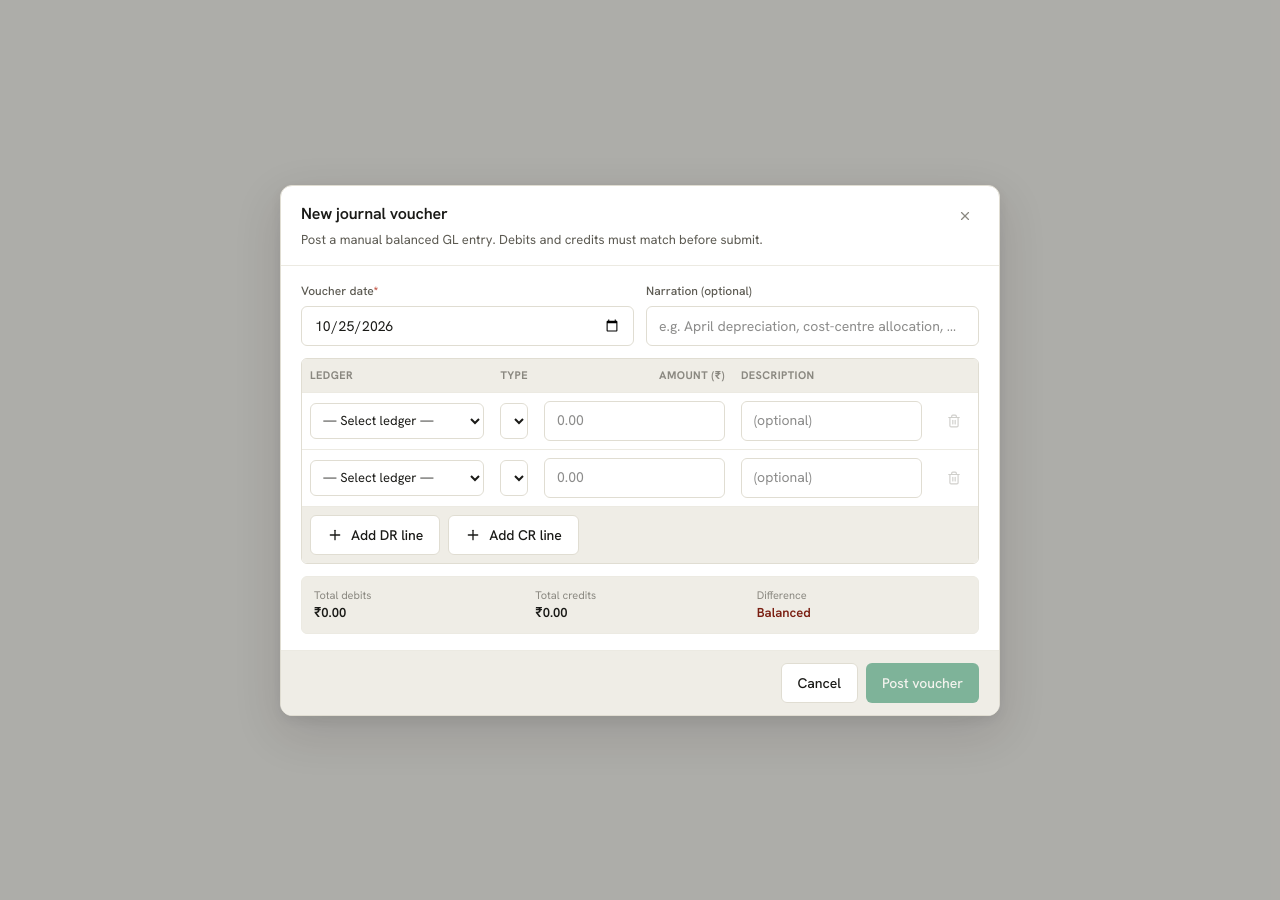
Test case: NewJournalVoucherDialog › enables submit when DR == CR and both lines have ledger + amount
Select "1000 · Cash on Hand" in the dropdown named "line 1 ledger". click: [397, 420]
box: x1=310 y1=402 x2=484 y2=438
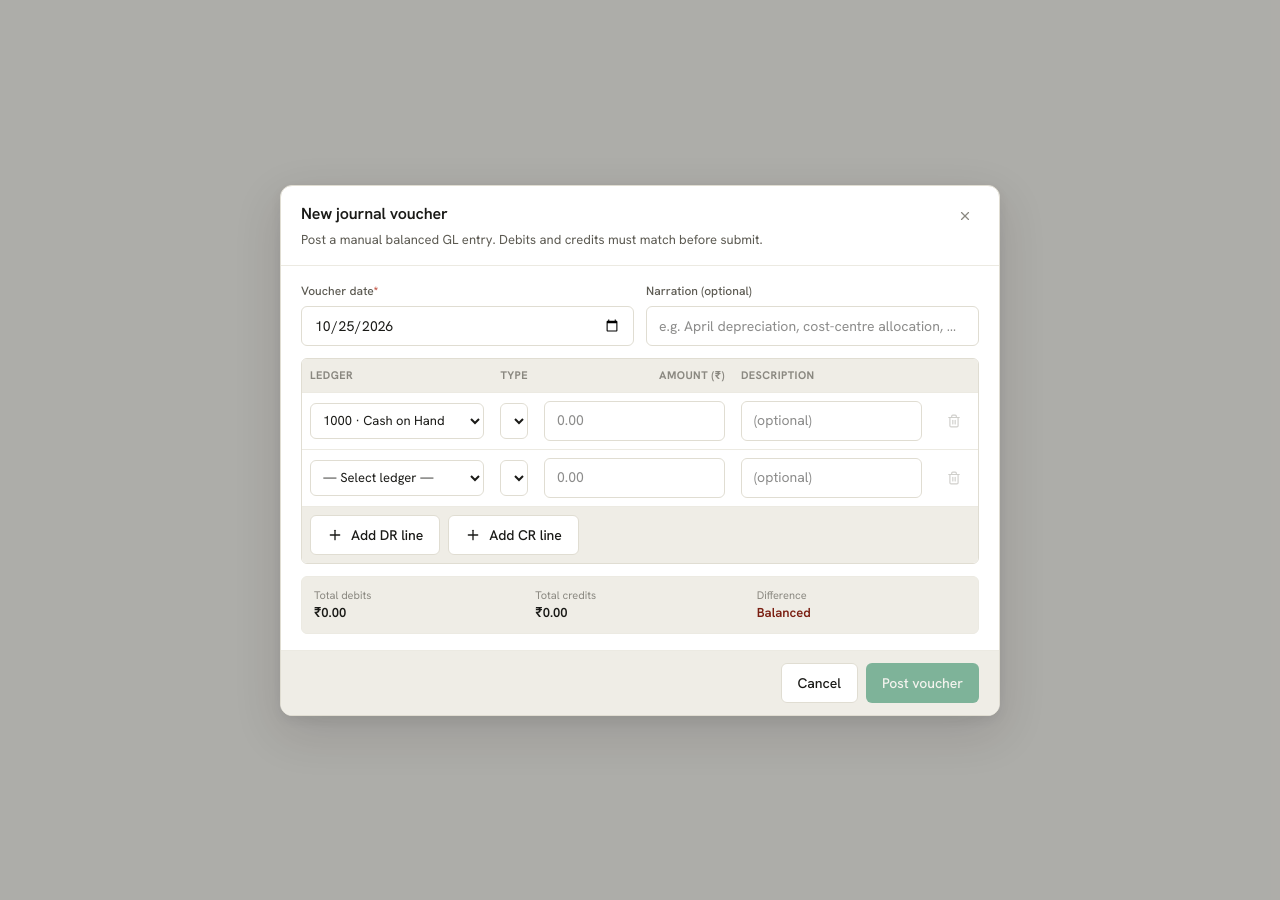
Type "750" into the number field named "line 1 amount". click: [634, 420]
box: x1=545 y1=410 x2=724 y2=431
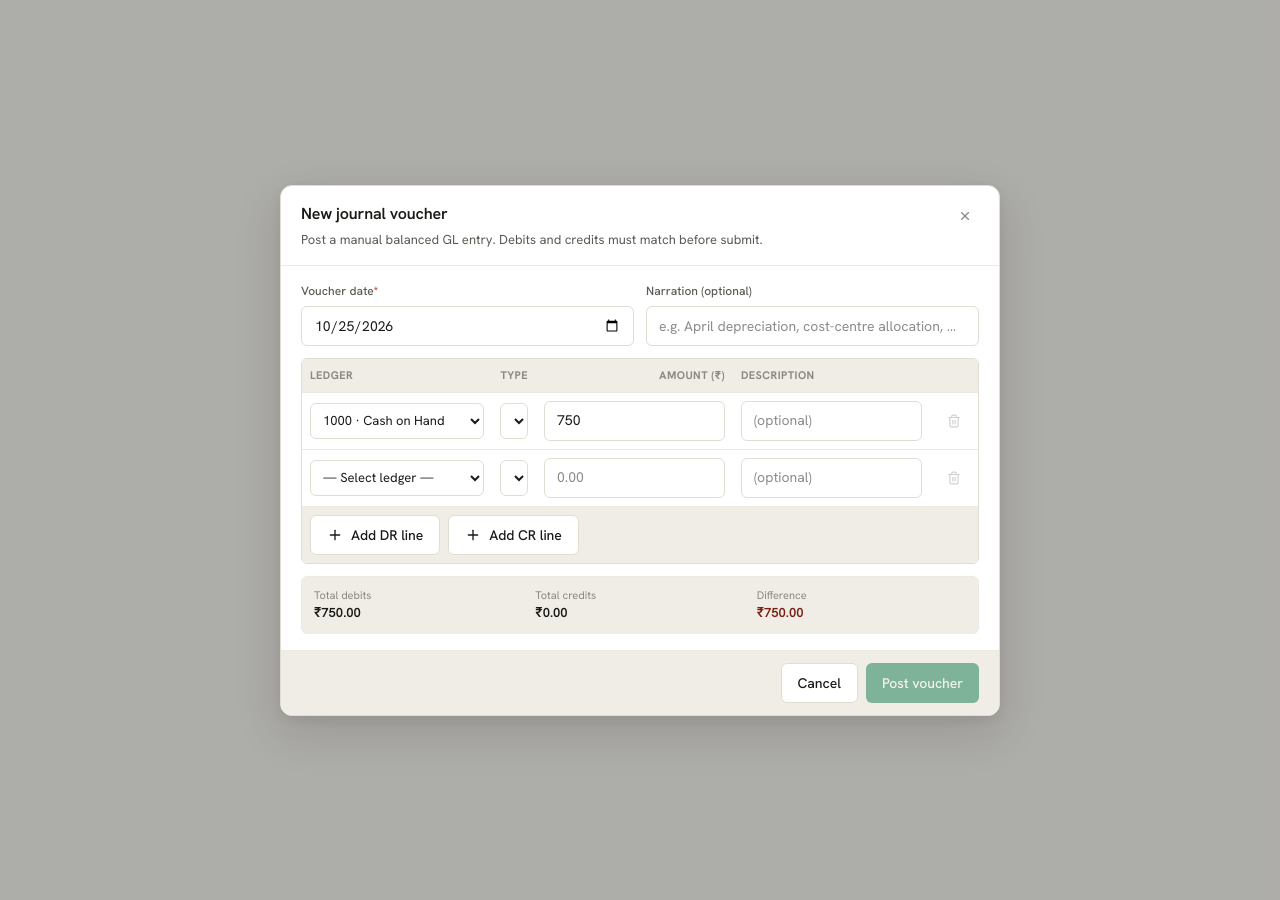
Select "4000 · Sales Revenue" in the dropdown named "line 2 ledger". click: [397, 478]
box: x1=310 y1=460 x2=484 y2=496
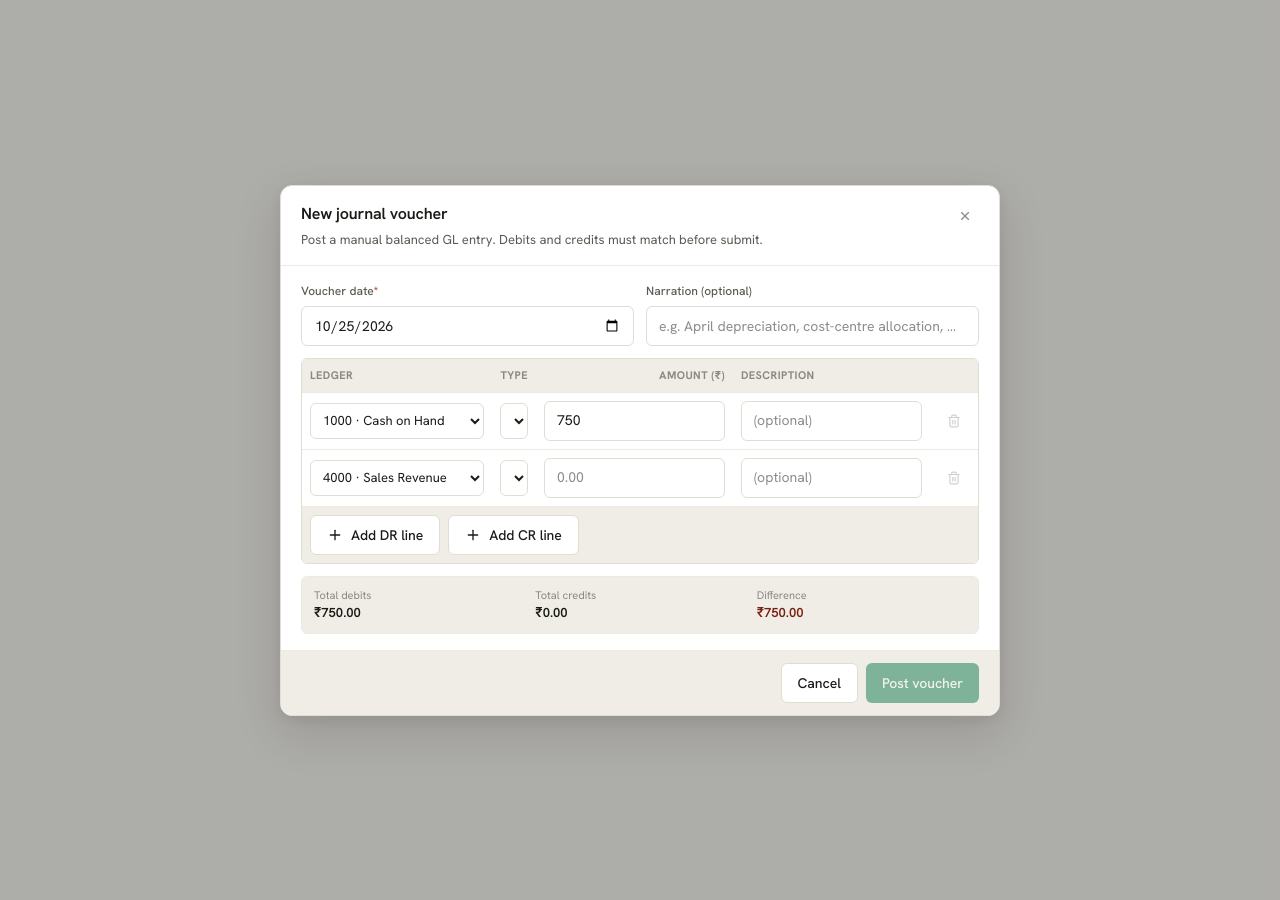
Type "750" into the number field named "line 2 amount". click: [634, 478]
box: x1=545 y1=467 x2=724 y2=488
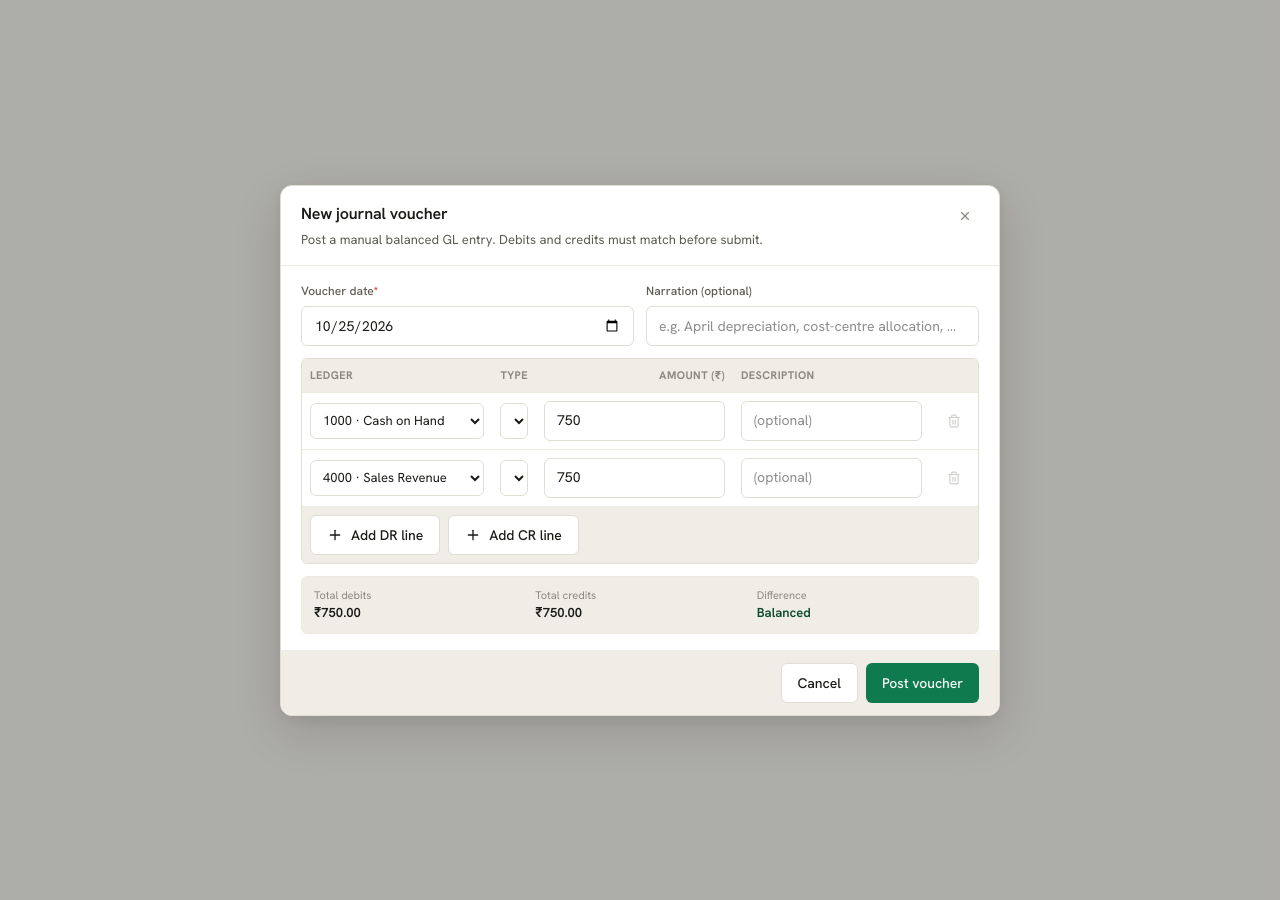
Result: the button "Post voucher" is enabled at x1=866 y1=662 x2=979 y2=702
Result: the text "Balanced" is shown at x1=757 y1=604 x2=811 y2=621
